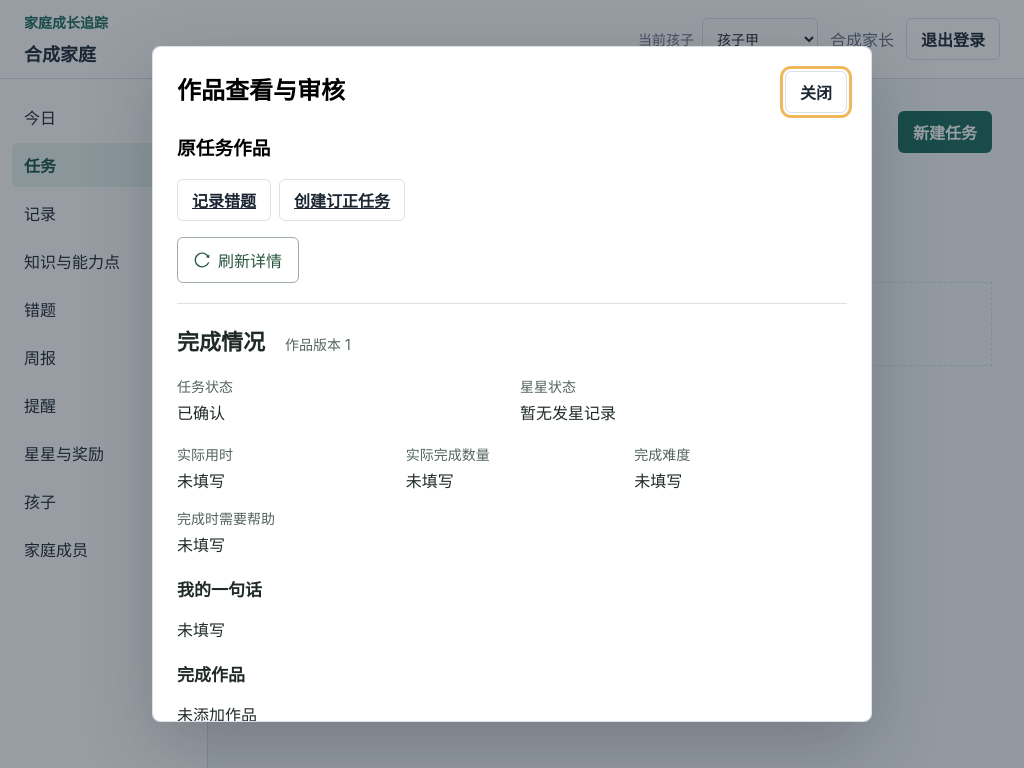
Test: same-route task correction closes the evidence dialog and opens exactly one editor
Step 1. Click the link "创建订正任务" → [342, 200], box [279,179,405,221]
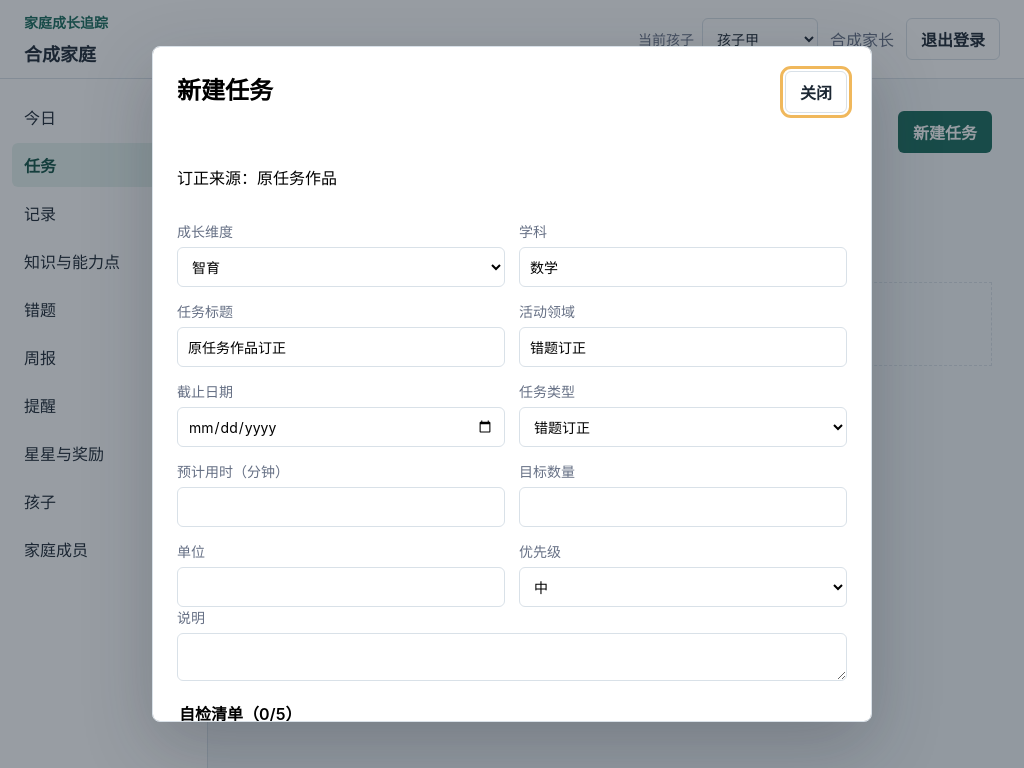
expect the dropdown labelled "任务类型" shows "错题订正": met, box [519,407,847,447]
expect the heading "作品查看与审核" is gone: met
